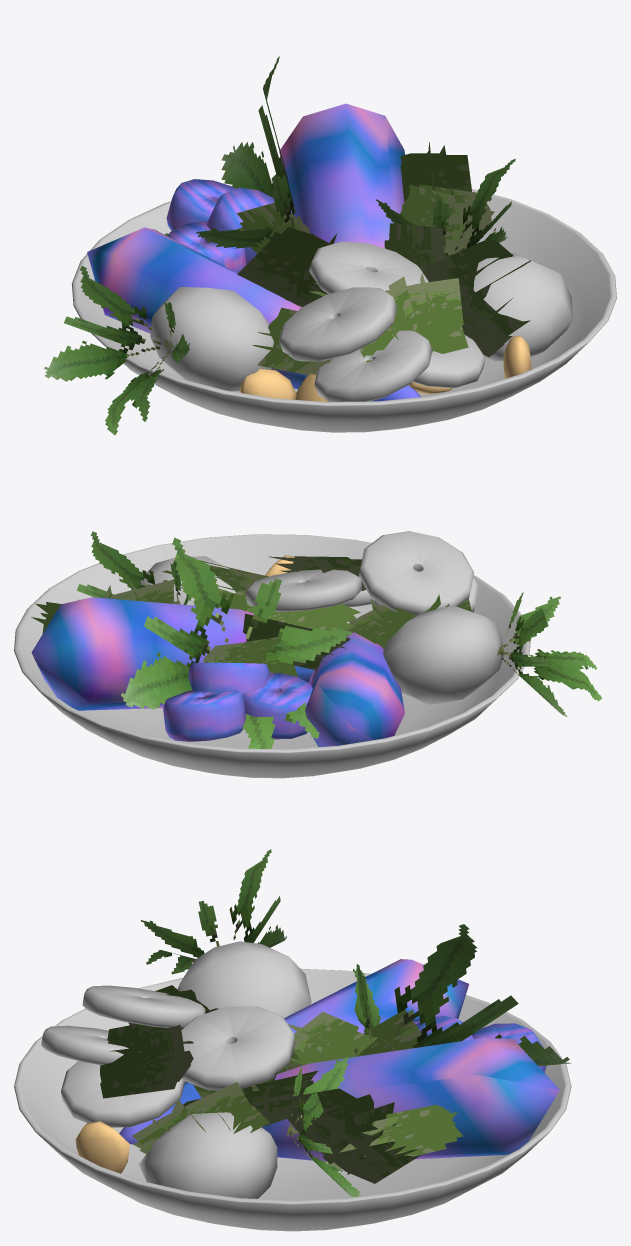
The model's file is bowl.fbx.
3 renders of one model, top to bottom at view 1: azimuth 30°, elevation 25°; view 2: azimuth 150°, elevation 25°; view 3: azimuth 270°, elevation 25°, orthographic. The views are drawn at different scales.
Parts seen in each view (by area): view 1: bowl, carrot__1_, carrot, turnip__1__2, blast_1, turnip__1_, turnip__2__1, turnip__1__3, grasscross__3_, blast__1_, grasscross__2_, turnip__4_ (+13 smaller); view 2: bowl, carrot__1_, blast__1_, turnip__1__2, carrot, turnip__2__1, blast_1, turnip__5_, turnip__4_, turnip__7_, turnip__6_, blast (+8 smaller); view 3: bowl, carrot__1_, turnip__1_, turnip__4_, blast__1_, turnip__1__2, grasscross__1__5, grasscross__3_, carrot, turnip__3_, blast_1, turnip__2__1 (+9 smaller).
Boxes of the visible parts, x1,y1,x2,y2 form: bowl: (71, 179, 616, 432); carrot__1_: (279, 103, 404, 248); carrot: (87, 227, 420, 401); turnip__1__2: (150, 287, 273, 391); blast_1: (44, 266, 189, 435); turnip__1_: (473, 253, 572, 361); turnip__2__1: (279, 287, 396, 361); turnip__1__3: (314, 330, 432, 401); grasscross__3_: (359, 273, 468, 362); blast__1_: (165, 56, 301, 248); grasscross__2_: (424, 239, 530, 357); turnip__4_: (309, 241, 428, 293); bowl: (14, 534, 530, 778); carrot__1_: (31, 597, 313, 710); blast__1_: (121, 537, 351, 748); turnip__1__2: (383, 605, 503, 704); carrot: (305, 632, 404, 746); turnip__2__1: (359, 531, 474, 615); blast_1: (497, 592, 601, 716); turnip__5_: (163, 690, 245, 741); turnip__4_: (245, 569, 362, 612); turnip__7_: (242, 673, 312, 739); turnip__6_: (188, 662, 269, 696); blast: (77, 531, 188, 604); bowl: (14, 968, 571, 1231); carrot__1_: (262, 1037, 559, 1161); turnip__1_: (138, 1112, 277, 1198); turnip__4_: (181, 1006, 295, 1090); blast__1_: (353, 924, 571, 1066); turnip__1__2: (177, 941, 311, 1017); grasscross__1__5: (286, 1088, 420, 1183); grasscross__3_: (100, 1024, 193, 1098); carrot: (119, 959, 469, 1144); turnip__3_: (61, 1061, 185, 1127); blast_1: (141, 849, 286, 974); turnip__2__1: (82, 985, 205, 1027).
Size of the model in its own units: 37.48 by 19.87 by 34.05.
